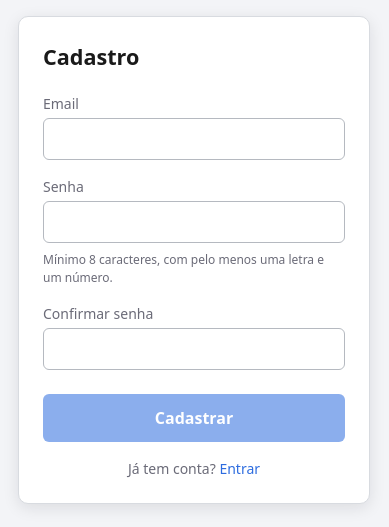
RegisterView › keeps submit disabled until all three fields are filled
The image size is (389, 527).
Expected: the button with test id "submit" is disabled, x1=43 y1=394 x2=345 y2=442
Type "a@b.com" into the field with test id "email".
click(194, 139); type("a@b.com")  # box x1=43 y1=118 x2=345 y2=160
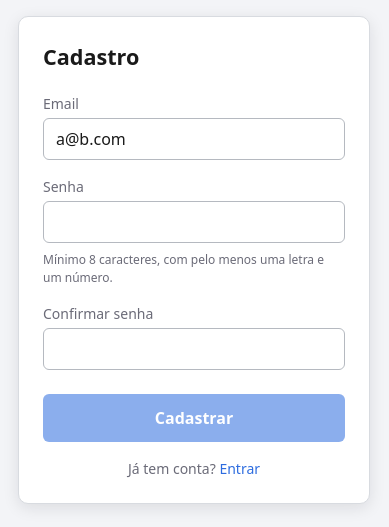
Type "Password123" into the password field with test id "password".
click(194, 222); type("Password123")  # box x1=43 y1=201 x2=345 y2=243
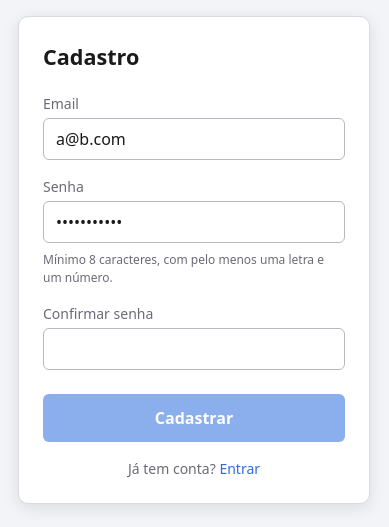
Expected: the button with test id "submit" is disabled, x1=43 y1=394 x2=345 y2=442
Type "Password123" into the password field with test id "password-confirmation".
click(194, 349); type("Password123")  # box x1=43 y1=328 x2=345 y2=370
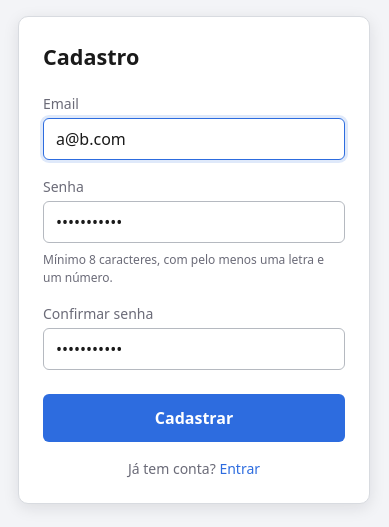
Expected: the button with test id "submit" is enabled, x1=43 y1=394 x2=345 y2=442
